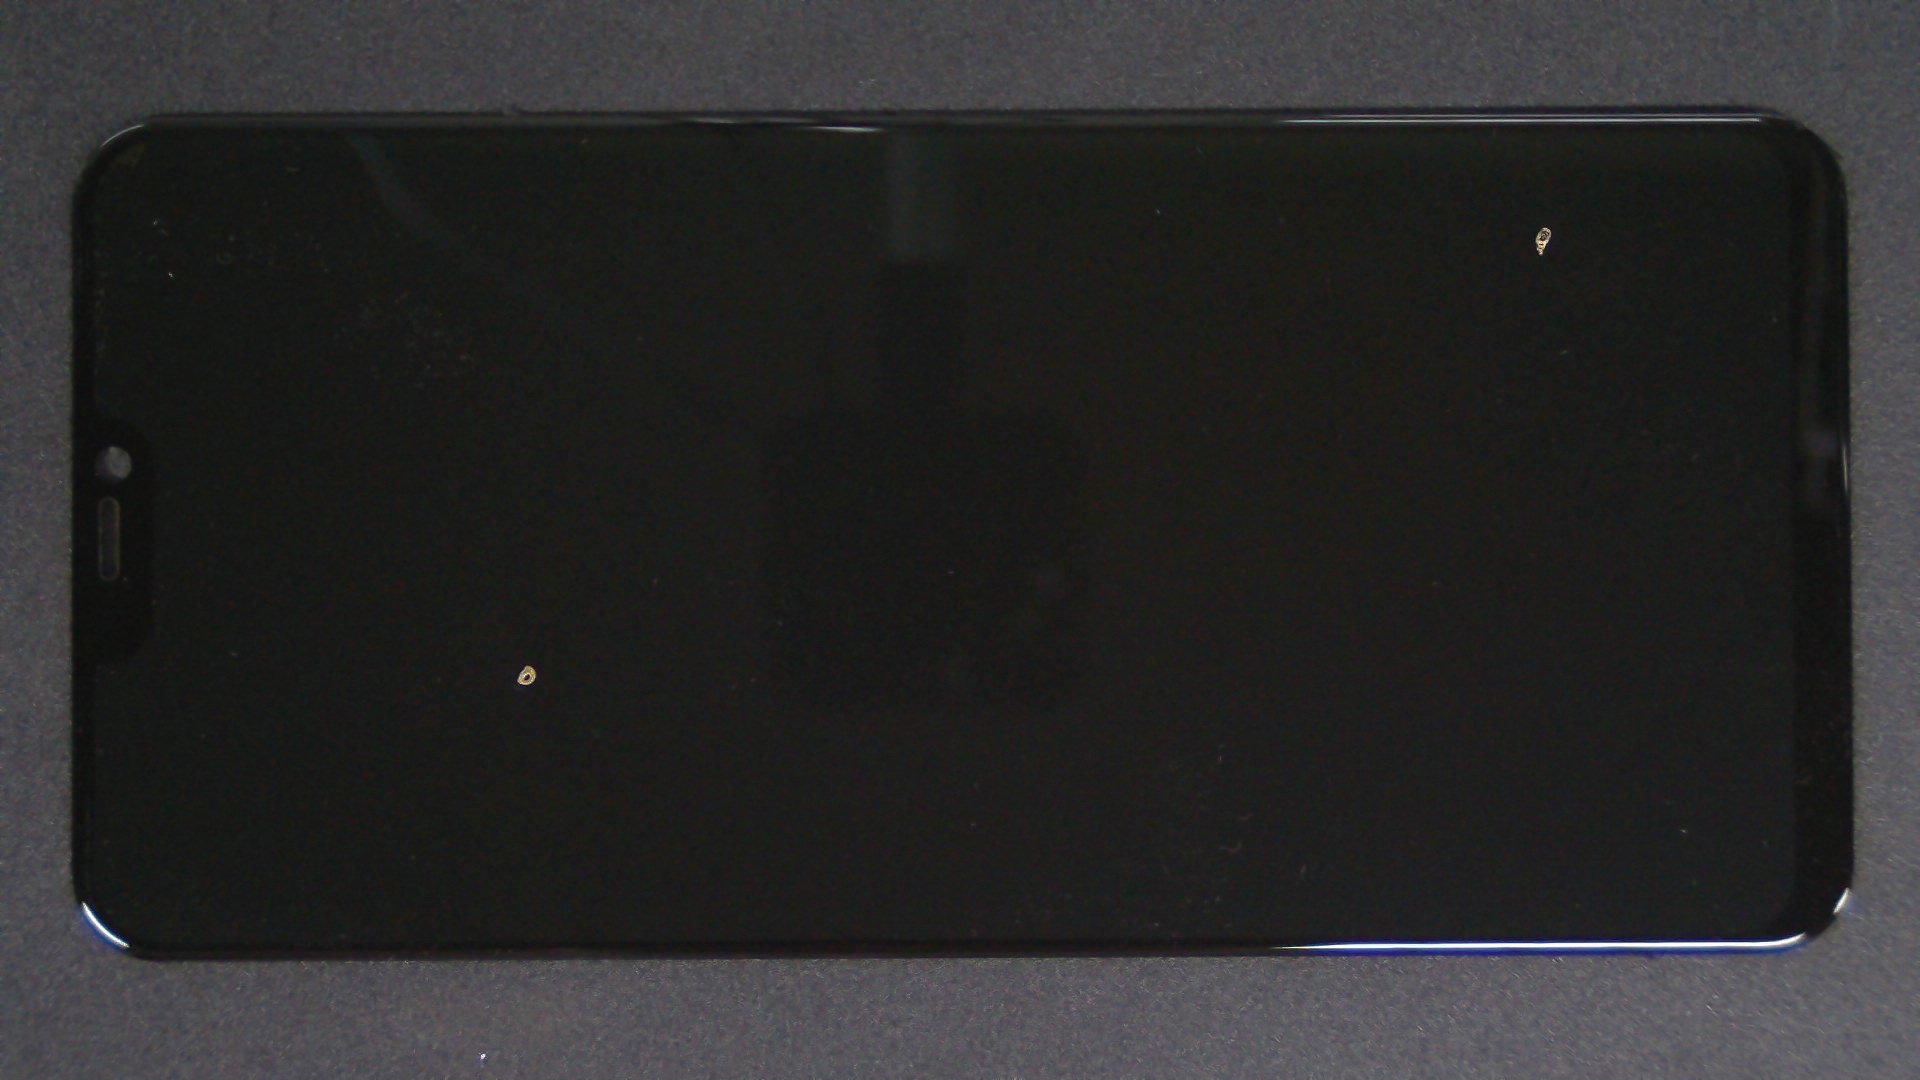oil: (266, 331, 798, 996), (773, 112, 1920, 338)
